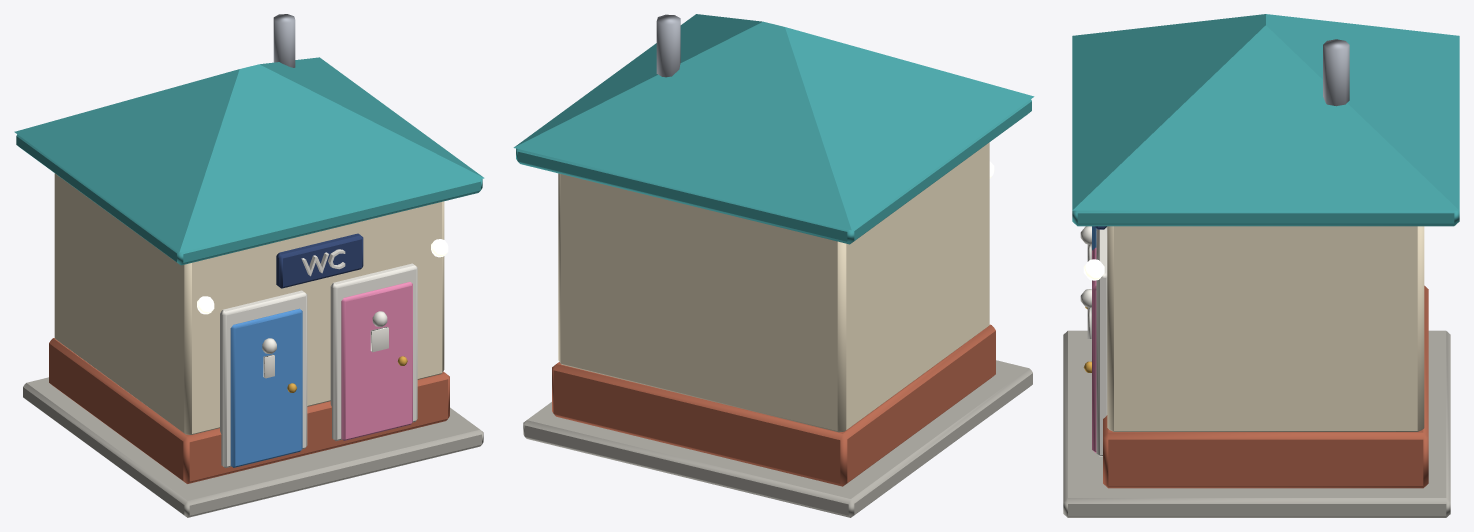
File: restroom.glb
The picture shows the model from 3 angles, left to right: view 1: azimuth 30°, elevation 25°; view 2: azimuth 150°, elevation 25°; view 3: azimuth 270°, elevation 25°; orthographic projection. The views are drawn at different scales.
Visible parts, largest first — view 1: base_pw_teal_paint, base_pw_cream_paint, base_pw_concrete, base_pw_brick, base_pw_blue_paint, base_pw_pink_paint, base_pw_white_paint, base_pw_navy_paint, base_pw_steel_chrome, base_pw_lamp_glow; view 2: base_pw_cream_paint, base_pw_teal_paint, base_pw_brick, base_pw_concrete, base_pw_steel_chrome; view 3: base_pw_teal_paint, base_pw_cream_paint, base_pw_concrete, base_pw_brick, base_pw_white_paint, base_pw_steel_chrome, base_pw_pink_paint.
Boxes of the visible parts, <box> form: base_pw_teal_paint: <box>14,57,484,265</box>; base_pw_cream_paint: <box>54,173,444,434</box>; base_pw_concrete: <box>23,377,483,517</box>; base_pw_brick: <box>49,338,449,483</box>; base_pw_blue_paint: <box>230,308,302,467</box>; base_pw_pink_paint: <box>341,282,412,440</box>; base_pw_white_paint: <box>220,249,417,467</box>; base_pw_navy_paint: <box>276,233,363,288</box>; base_pw_steel_chrome: <box>273,14,295,67</box>; base_pw_lamp_glow: <box>197,239,448,314</box>; base_pw_cream_paint: <box>558,142,989,432</box>; base_pw_teal_paint: <box>513,14,1034,244</box>; base_pw_brick: <box>552,324,995,486</box>; base_pw_concrete: <box>523,360,1032,517</box>; base_pw_steel_chrome: <box>656,14,680,77</box>; base_pw_teal_paint: <box>1072,14,1459,226</box>; base_pw_cream_paint: <box>1107,226,1424,431</box>; base_pw_concrete: <box>1063,330,1450,517</box>; base_pw_brick: <box>1103,285,1428,488</box>; base_pw_white_paint: <box>1080,226,1107,456</box>; base_pw_steel_chrome: <box>1323,39,1349,106</box>; base_pw_pink_paint: <box>1092,247,1096,452</box>.
Bounding box in the file's own units: 0.94 × 1.07 × 0.9.
